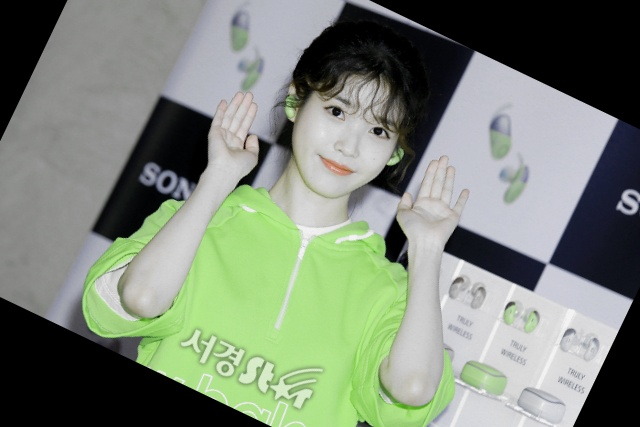earphone: (275, 78, 312, 124)
